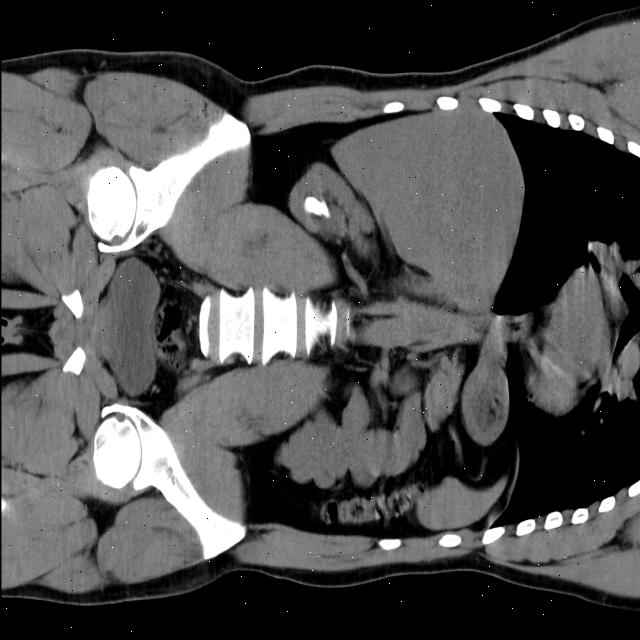kidneystone: (304, 197, 329, 218)
